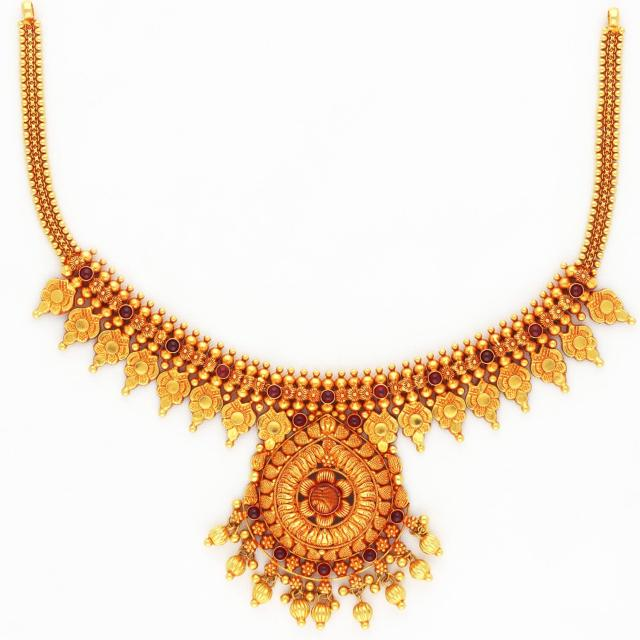missing gem: (311, 485, 338, 513)
